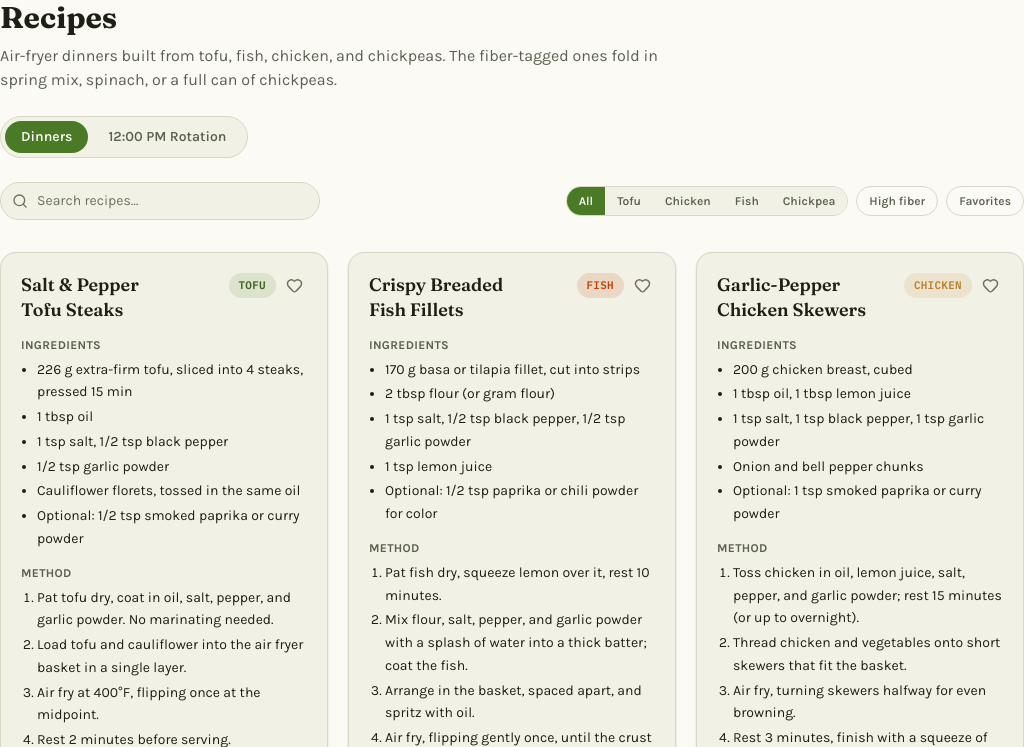
Test: Recipes › filters by the chickpea protein type
Click the button "chickpea" at (809, 201), box [771,187,847,215]
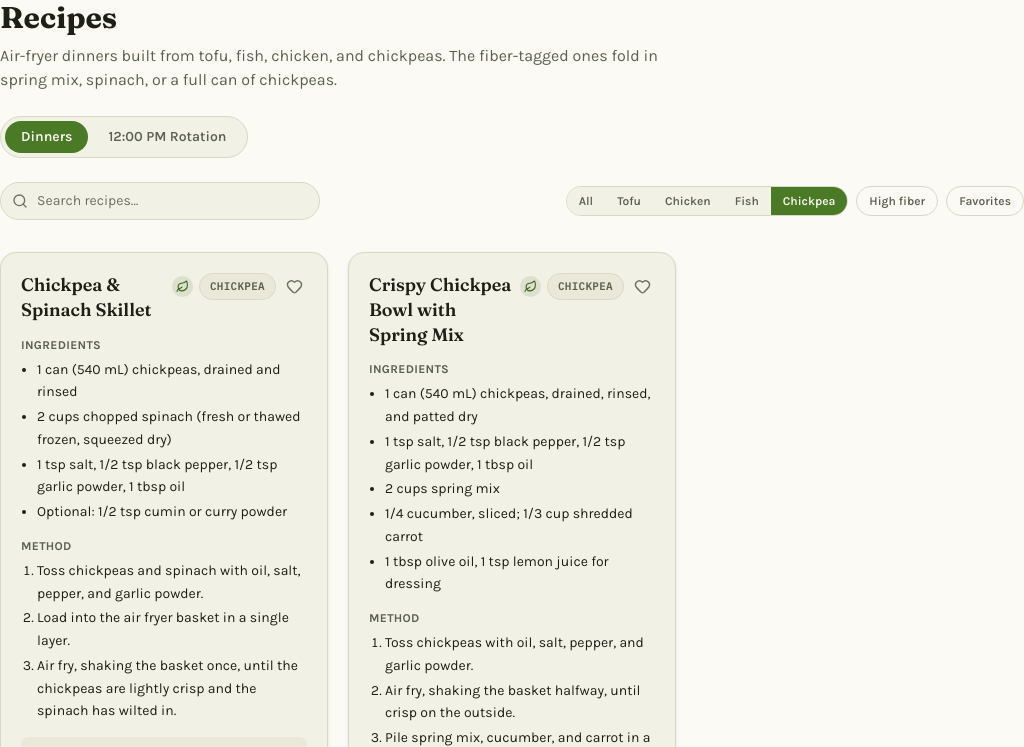
Expected: the heading "Chickpea & Spinach Skillet" is shown, [21,273,164,322]
Expected: the heading "Salt & Pepper Tofu Steaks" is gone
